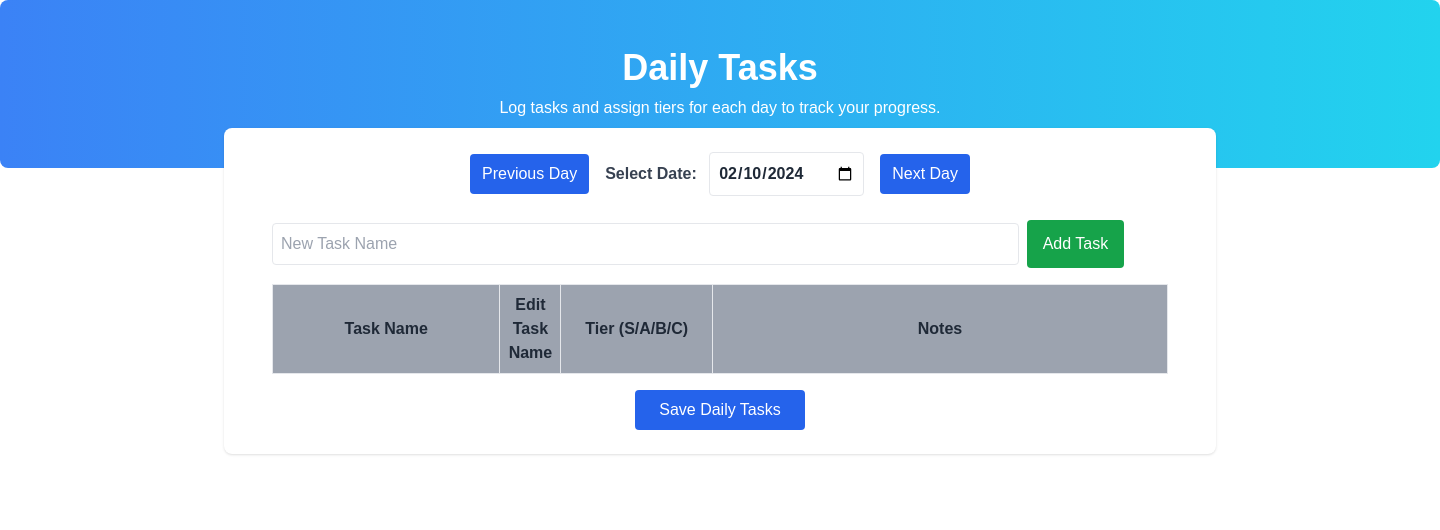
it: DailyPage (src/app/daily/page.tsx) › allows the user to add a new task
The image size is (1440, 530).
Type "NewTask123" into the field with placeholder "New Task Name" at (645, 244), box [272,223,1019,265]
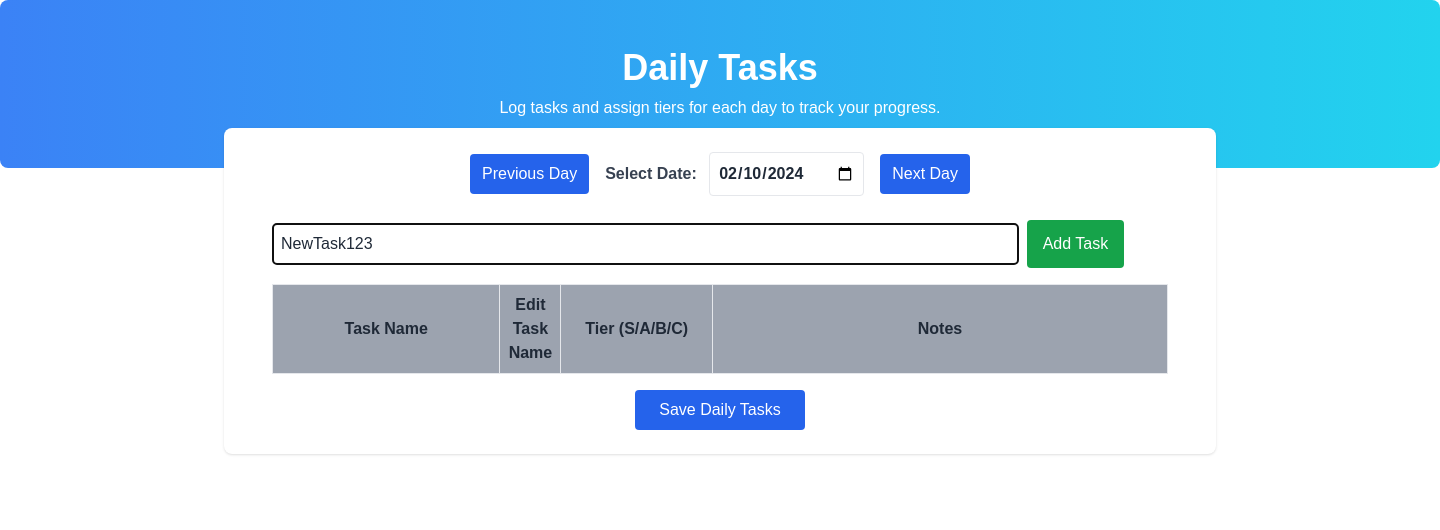
Click the button "Add Task" at (1075, 244), box [1027,220,1124,268]
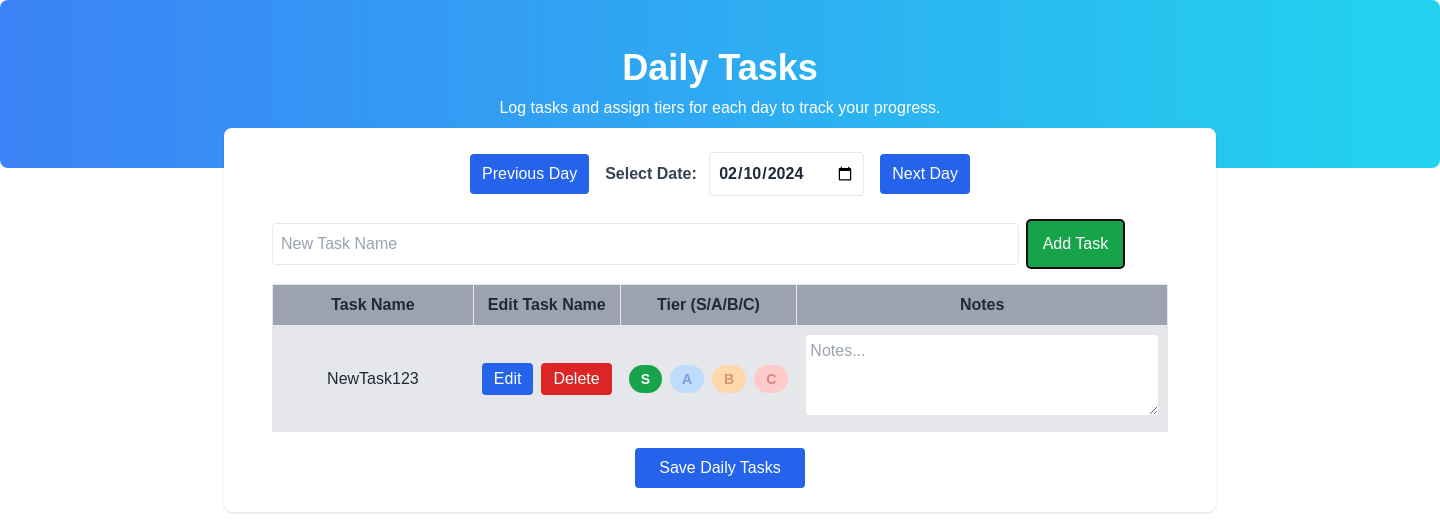
Now the text "NewTask123" is shown, box [327,370,419,386]
